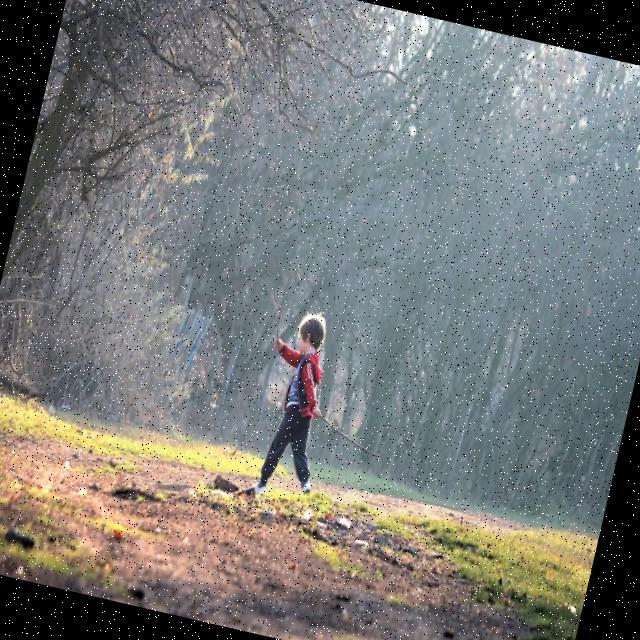Person: (239, 303, 347, 502)
